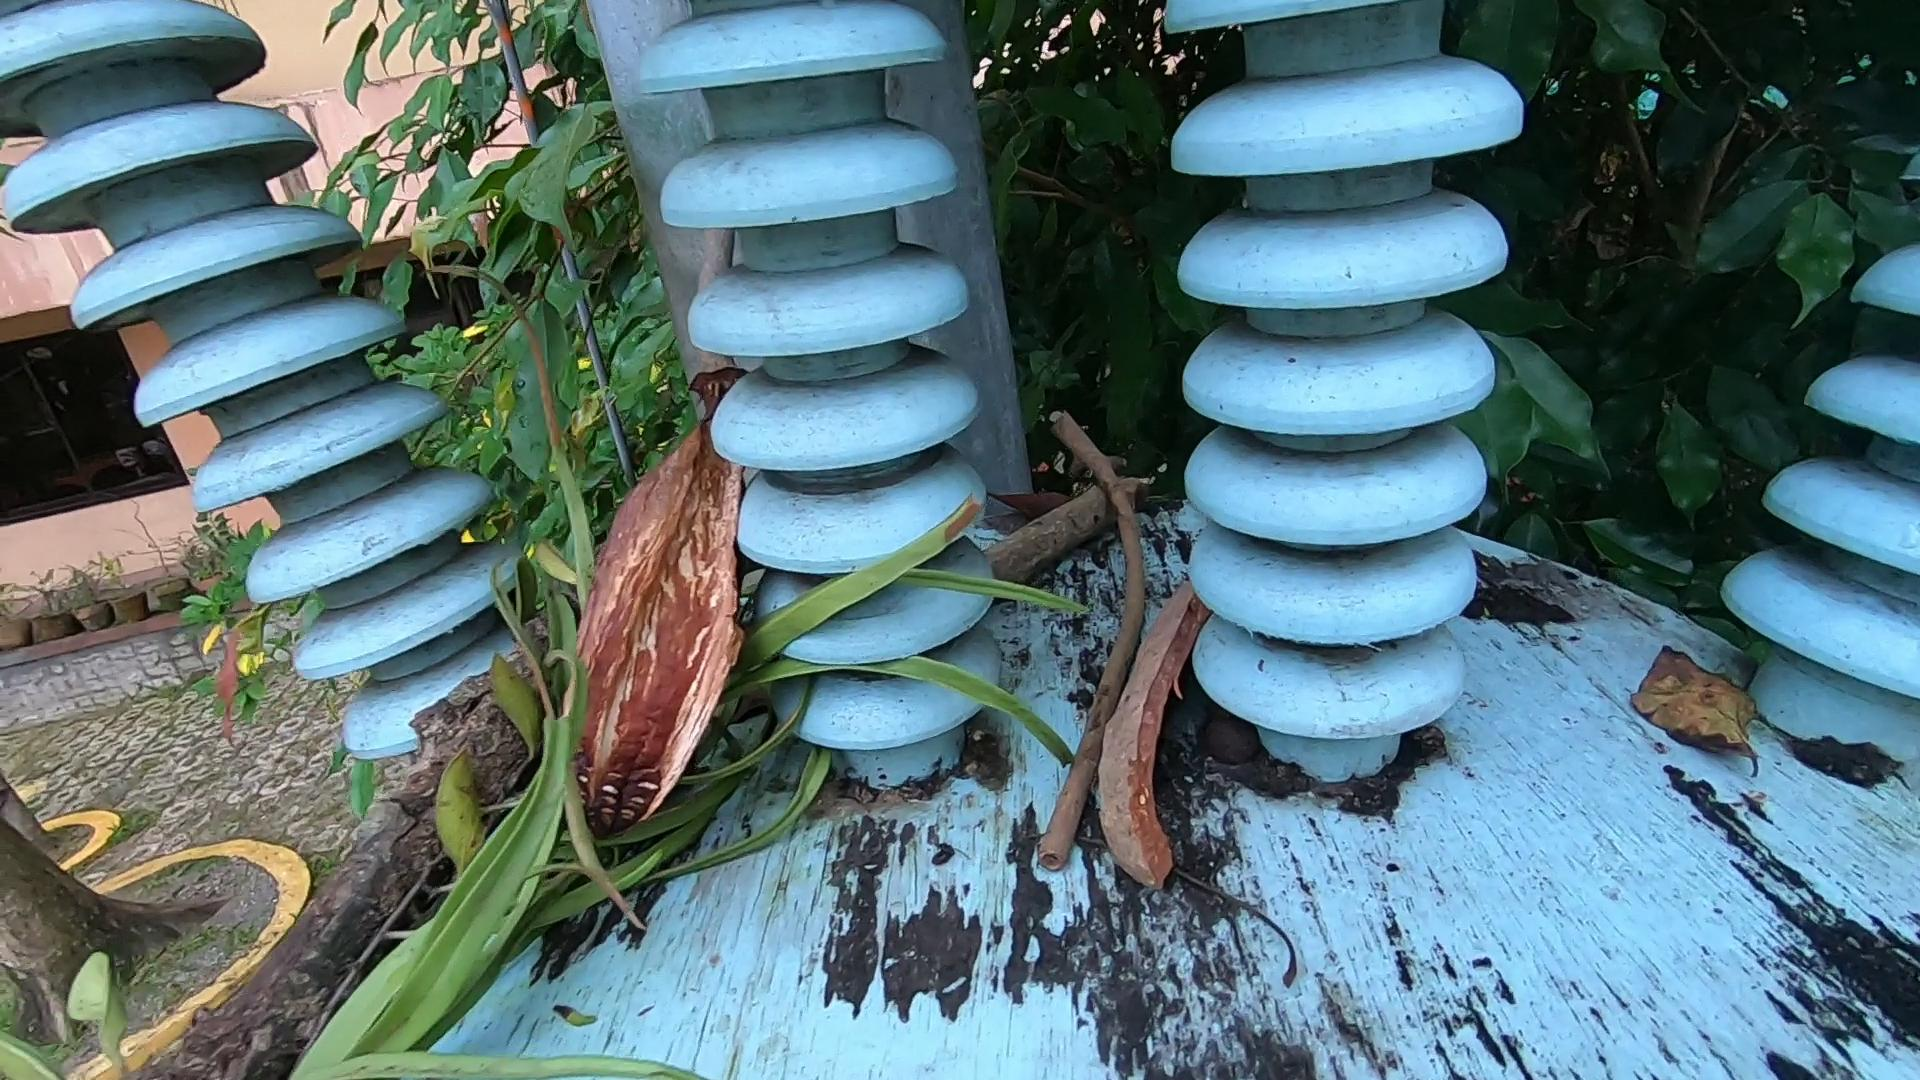branch with leaves: (4, 253, 1083, 1080)
leaf: (1631, 632, 1774, 778)
mahogany fruit: (593, 330, 816, 847), (1085, 576, 1253, 948)
tree branch: (1044, 388, 1147, 876), (985, 471, 1141, 578)
